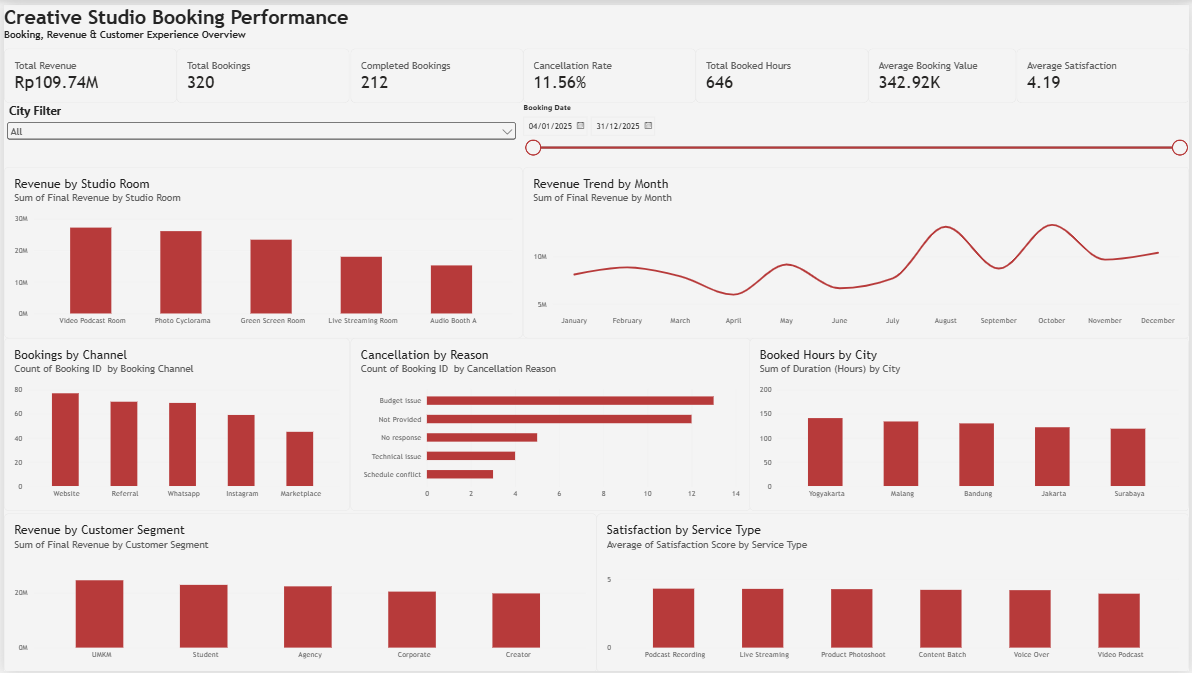

Layout of this report page (visuals, bound fields, positions):
{"tool":"powerbi","page":{"name":"Page 1","canvas":[1920,1080],"ordinal":0},"visuals":[{"type":"cardVisual","title":"Total Revenue","fields":{"Data":["Sum(tb1_CreativeStudio.Final Revenue)"]},"box":[0,70,280,88.3],"z":0},{"type":"cardVisual","title":"Total Bookings","fields":{"Data":["CountNonNull(tb1_CreativeStudio.Booking ID )"]},"box":[280,70,280,88.3],"z":1000},{"type":"cardVisual","fields":{"Data":["CountNonNull(tb1_CreativeStudio.Booking Status)"]},"box":[560,70,280,88.3],"z":2000},{"type":"cardVisual","fields":{"Data":["tb1_CreativeStudio.Cancellation Rate"]},"box":[840,70,280,88.3],"z":3000},{"type":"cardVisual","title":"Total Booked Hours","fields":{"Data":["Sum(tb1_CreativeStudio.Duration (Hours))"]},"box":[1120,70,280,88.3],"z":4000},{"type":"cardVisual","title":"Average Booking Value","fields":{"Data":["Avg(tb1_CreativeStudio.Final Revenue)"]},"box":[1400,70,240,88.3],"z":5000},{"type":"cardVisual","title":"Average Satisfaction","fields":{"Data":["Avg(tb1_CreativeStudio.Satisfaction Score)"]},"box":[1640,70,280,88.3],"z":6000},{"type":"clusteredColumnChart","title":"Revenue by Studio Room","fields":{"Category":["tb1_CreativeStudio.Studio Room"],"Y":["Sum(tb1_CreativeStudio.Final Revenue)"]},"box":[0,262.5,840,277.5],"z":7000},{"type":"lineChart","title":"Revenue Trend by Month","fields":{"Category":["tb1_CreativeStudio.Booking Date.Variation.Date Hierarchy.Month"],"Y":["Sum(tb1_CreativeStudio.Final Revenue)"]},"box":[840,262.5,1080,277.5],"z":8000},{"type":"clusteredColumnChart","title":"Bookings by Channel","fields":{"Category":["tb1_CreativeStudio.Booking Channel"],"Y":["CountNonNull(tb1_CreativeStudio.Booking ID )"]},"box":[0,540,560,280],"z":9000},{"type":"clusteredBarChart","title":"Cancellation by Reason","fields":{"Category":["tb1_CreativeStudio.Cancellation Reason"],"Y":["CountNonNull(tb1_CreativeStudio.Booking ID )"]},"box":[560,540,648,280],"z":10000},{"type":"clusteredColumnChart","title":"Booked Hours by City","fields":{"Category":["tb1_CreativeStudio.City"],"Y":["Sum(tb1_CreativeStudio.Duration (Hours))"]},"box":[1207.5,540,712.5,280],"z":11000},{"type":"clusteredColumnChart","title":"Revenue by Customer Segment","fields":{"Category":["tb1_CreativeStudio.Customer Segment"],"Y":["Sum(tb1_CreativeStudio.Final Revenue)"]},"box":[0,822.5,960,257.5],"z":12000},{"type":"clusteredColumnChart","title":"Satisfaction by Service Type","fields":{"Category":["tb1_CreativeStudio.Service Type"],"Y":["Avg(tb1_CreativeStudio.Satisfaction Score)"]},"box":[960,822.5,960,257.5],"z":13000},{"type":"slicer","fields":{"Values":["tb1_CreativeStudio.City"]},"box":[0,158.3,833.3,105],"z":14000},{"type":"slicer","fields":{"Values":["tb1_CreativeStudio.Booking Date"]},"box":[833.3,158.3,1086.7,105],"z":15000},{"type":"textbox","box":[0,0,576,48],"z":16000},{"type":"textbox","box":[0,40,560,30],"z":17000}]}

Visuals, with their boxes in screenshot pixels (x1, y1, x2, y2), scaled from the page's 1920x1080 canvas onto the 1192x673 screenshot:
"Total Revenue" cardVisual: detection(0, 44, 174, 99)
"Total Bookings" cardVisual: detection(174, 44, 348, 99)
cardVisual - CountNonNull(tb1_CreativeStudio.Booking Status): detection(348, 44, 522, 99)
cardVisual - tb1_CreativeStudio.Cancellation Rate: detection(522, 44, 695, 99)
"Total Booked Hours" cardVisual: detection(695, 44, 869, 99)
"Average Booking Value" cardVisual: detection(869, 44, 1018, 99)
"Average Satisfaction" cardVisual: detection(1018, 44, 1191, 99)
"Revenue by Studio Room" clusteredColumnChart: detection(0, 164, 522, 336)
"Revenue Trend by Month" lineChart: detection(522, 164, 1191, 336)
"Bookings by Channel" clusteredColumnChart: detection(0, 336, 348, 511)
"Cancellation by Reason" clusteredBarChart: detection(348, 336, 750, 511)
"Booked Hours by City" clusteredColumnChart: detection(750, 336, 1191, 511)
"Revenue by Customer Segment" clusteredColumnChart: detection(0, 513, 596, 672)
"Satisfaction by Service Type" clusteredColumnChart: detection(596, 513, 1191, 672)
slicer - tb1_CreativeStudio.City: detection(0, 99, 517, 164)
slicer - tb1_CreativeStudio.Booking Date: detection(517, 99, 1191, 164)
textbox: detection(0, 0, 358, 30)
textbox: detection(0, 25, 348, 44)
